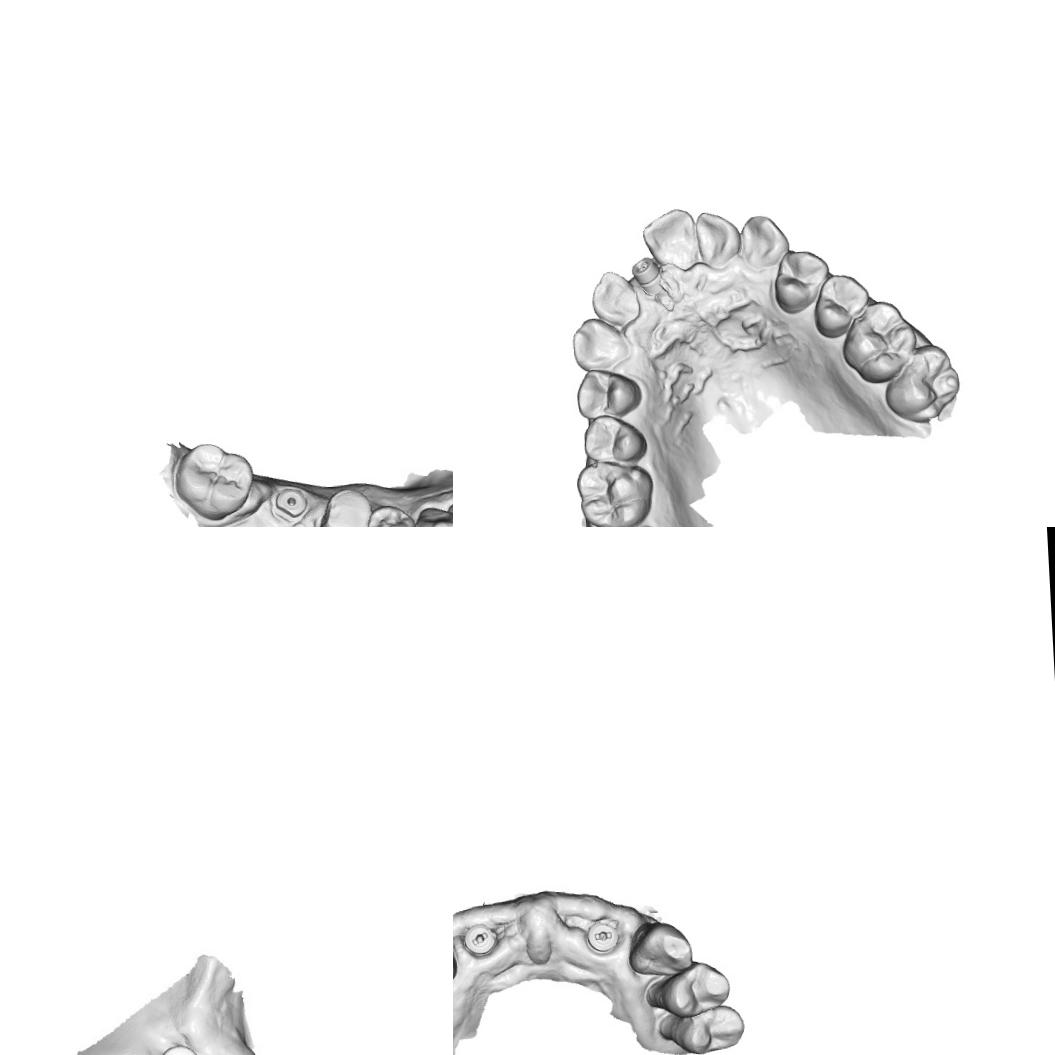canine: (624, 916, 697, 978), (569, 315, 630, 371), (735, 212, 792, 270), (413, 504, 453, 527)
implant: (270, 484, 310, 523), (629, 254, 665, 296), (158, 1042, 199, 1055)
implant_minus: (582, 915, 620, 955), (462, 921, 498, 957)
incisor: (639, 206, 699, 273), (588, 268, 642, 329), (694, 209, 742, 270)
molar: (172, 438, 255, 523), (838, 298, 918, 386), (882, 341, 962, 424), (573, 459, 655, 527)
premolar: (658, 958, 733, 1020), (810, 271, 872, 339), (770, 247, 832, 314), (671, 1002, 747, 1055), (572, 367, 642, 420), (581, 412, 647, 464), (315, 486, 374, 527), (362, 503, 416, 527)
